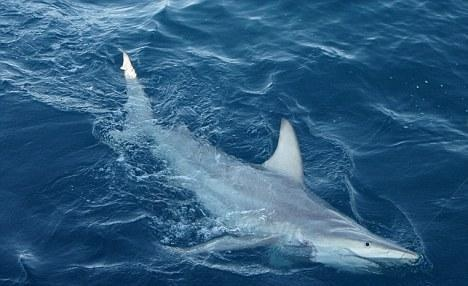fish: (111, 51, 427, 267)
